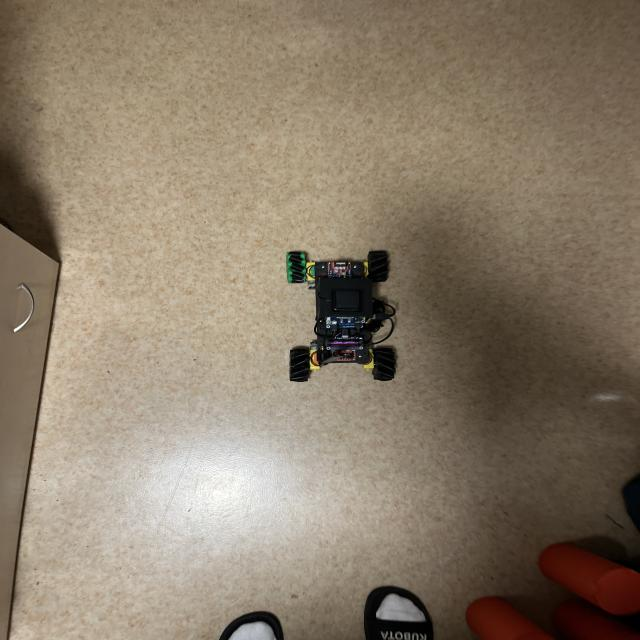robot: (286, 250, 396, 382)
